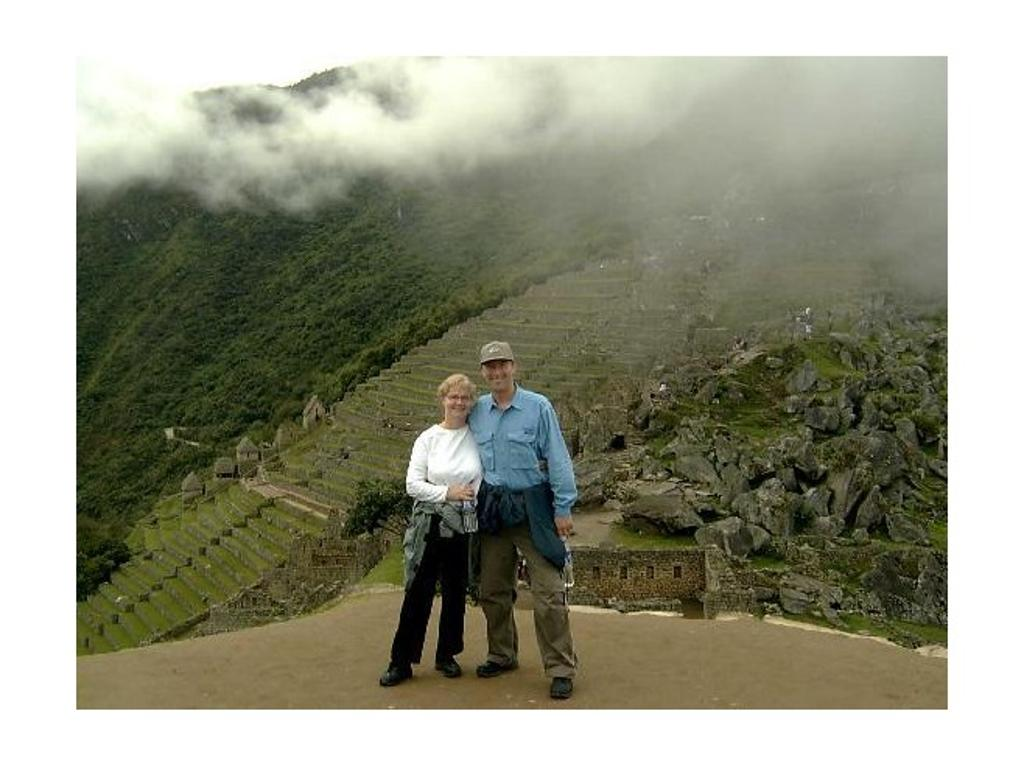face: (482, 358, 511, 389), (444, 386, 469, 417)
